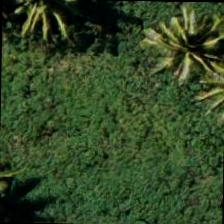Kelapa_Sawit: (141, 3, 223, 95)
